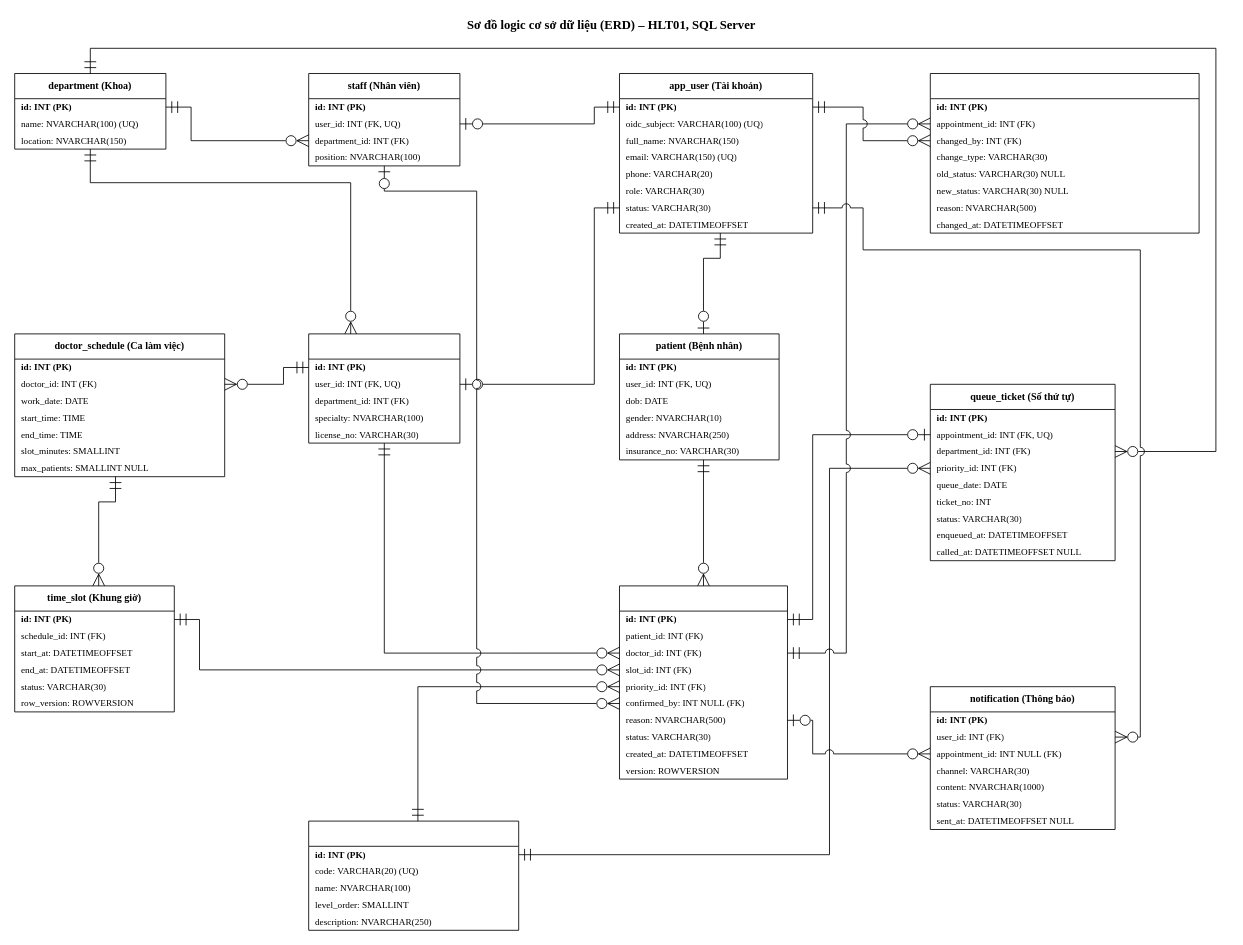
Some shapes in this 1243 by 945 pixel diagram are drawn without their labels. Each missing label, with the box of its shape:
appointment (Lịch hẹn): (619, 585, 788, 779)
appointment_history (Lịch sử lịch hẹn): (929, 73, 1199, 233)
doctor (Bác sĩ): (308, 333, 460, 443)
priority_level (Mức ưu tiên): (308, 820, 519, 930)
